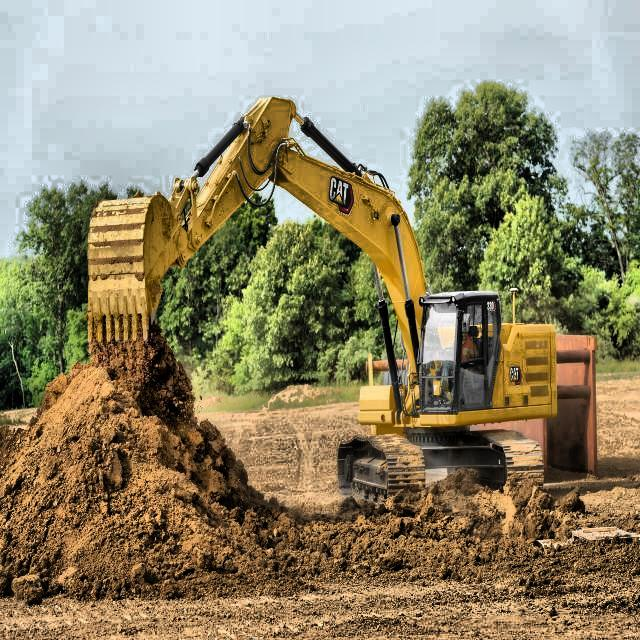excavator: (81, 94, 564, 508)
